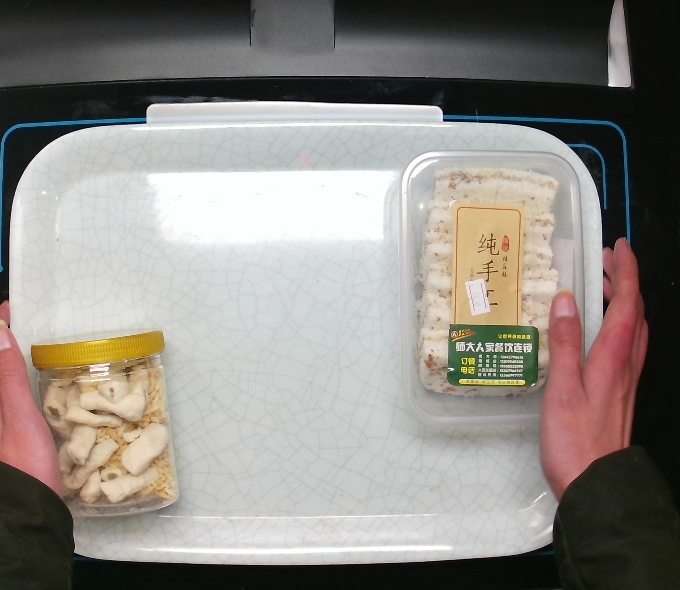wcq-GuiHuaGao: (394, 146, 587, 428)
wcq-MaiYaTang: (26, 321, 183, 522)
